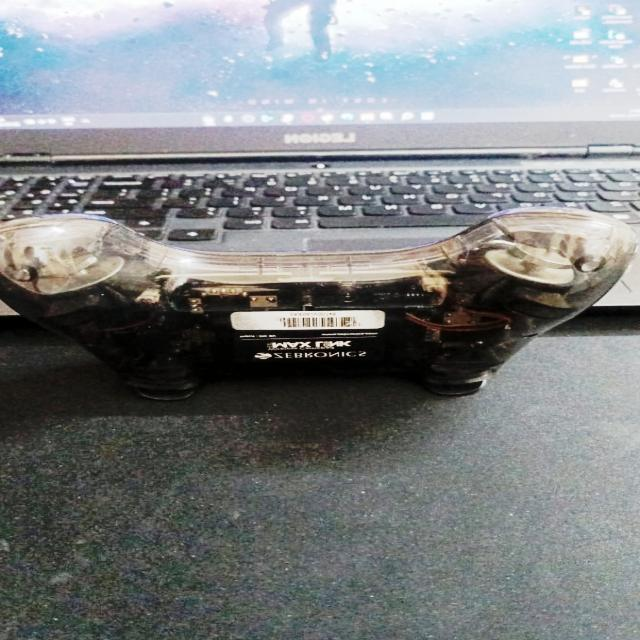gamepad: (0, 204, 640, 400)
